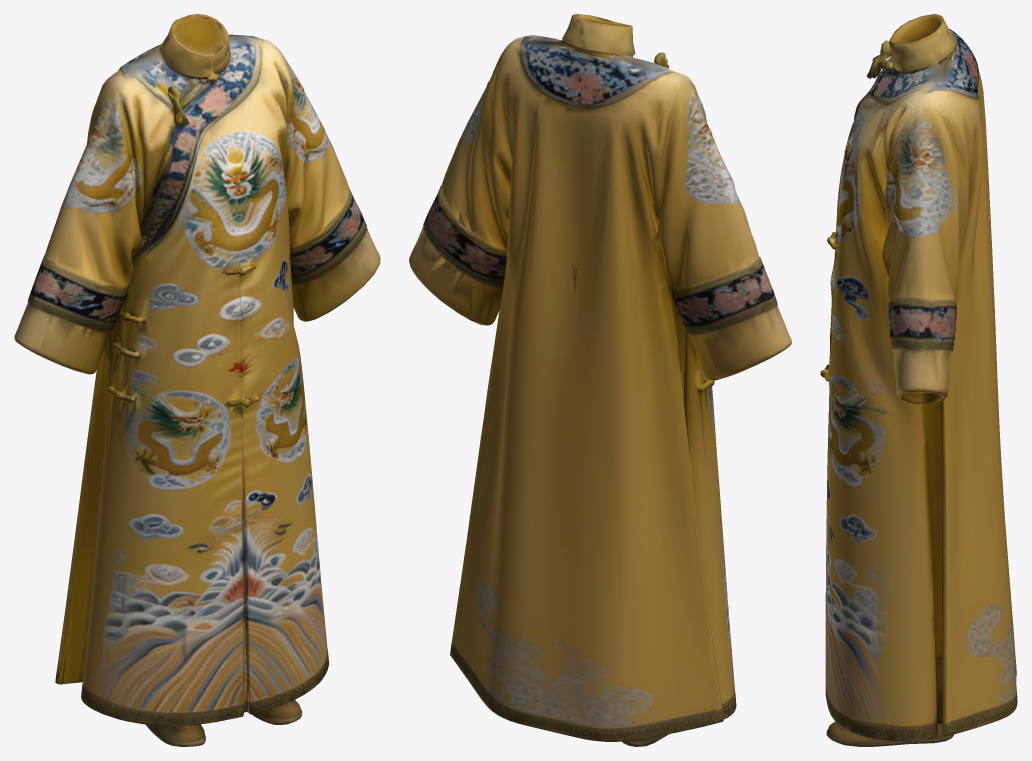
The model's file is xinghuang.glb.
3 views of the same model, side by side, from view 1: azimuth 30°, elevation 25°; view 2: azimuth 150°, elevation 25°; view 3: azimuth 270°, elevation 25° (orthographic). The views are drawn at different scales.
Parts seen in each view (by area): view 1: node_0; view 2: node_0; view 3: node_0.
Boxes of the visible parts, x1=… form: node_0: x1=14, y1=14, x2=380, y2=746; node_0: x1=409, y1=14, x2=791, y2=746; node_0: x1=820, y1=14, x2=1017, y2=746.
Bounding box in the file's own units: 0.6433 × 1.16 × 0.2992.
Materials: 1 (1 with a texture image).
